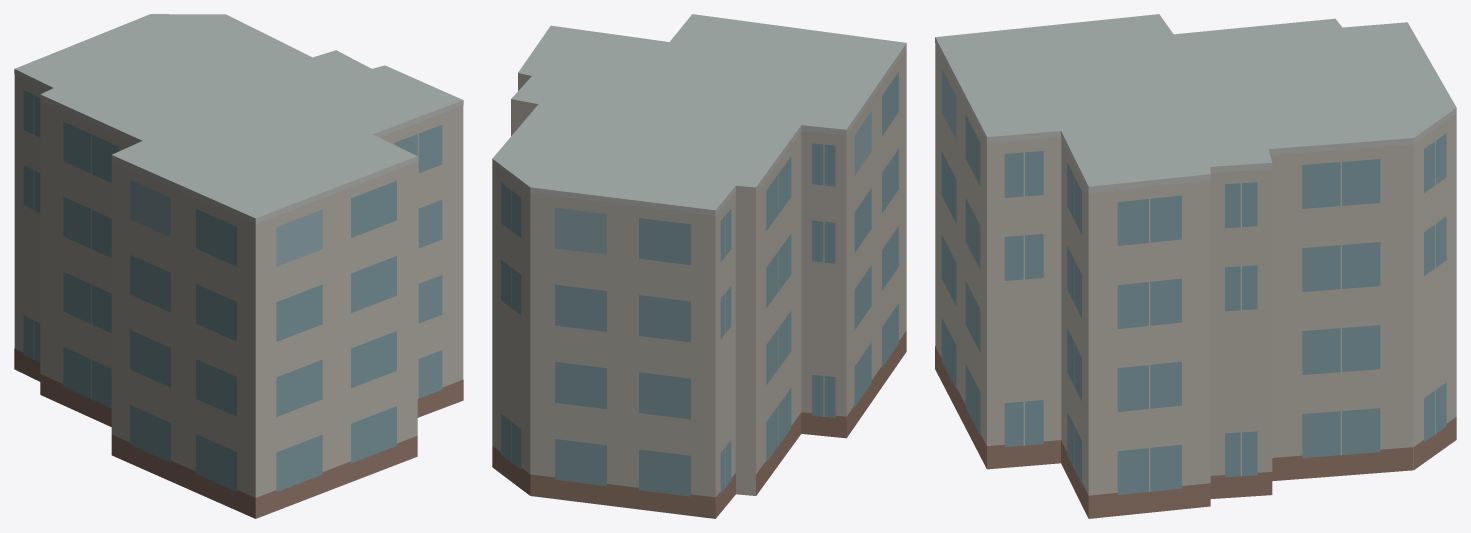
The model's file is survey-upis-32613914.glb.
3 views of the same model, side by side, from view 1: azimuth 30°, elevation 25°; view 2: azimuth 150°, elevation 25°; view 3: azimuth 270°, elevation 25° (orthographic). The views are drawn at different scales.
Visible parts, largest first — view 1: survey-upis-32613914.tmp; view 2: survey-upis-32613914.tmp; view 3: survey-upis-32613914.tmp.
Part boxes in pixels (x1=…): survey-upis-32613914.tmp: x1=14, y1=14, x2=463, y2=518; survey-upis-32613914.tmp: x1=492, y1=14, x2=906, y2=518; survey-upis-32613914.tmp: x1=935, y1=14, x2=1456, y2=518.
Bounding box in the file's own units: 14.72 × 13.2 × 18.79.
